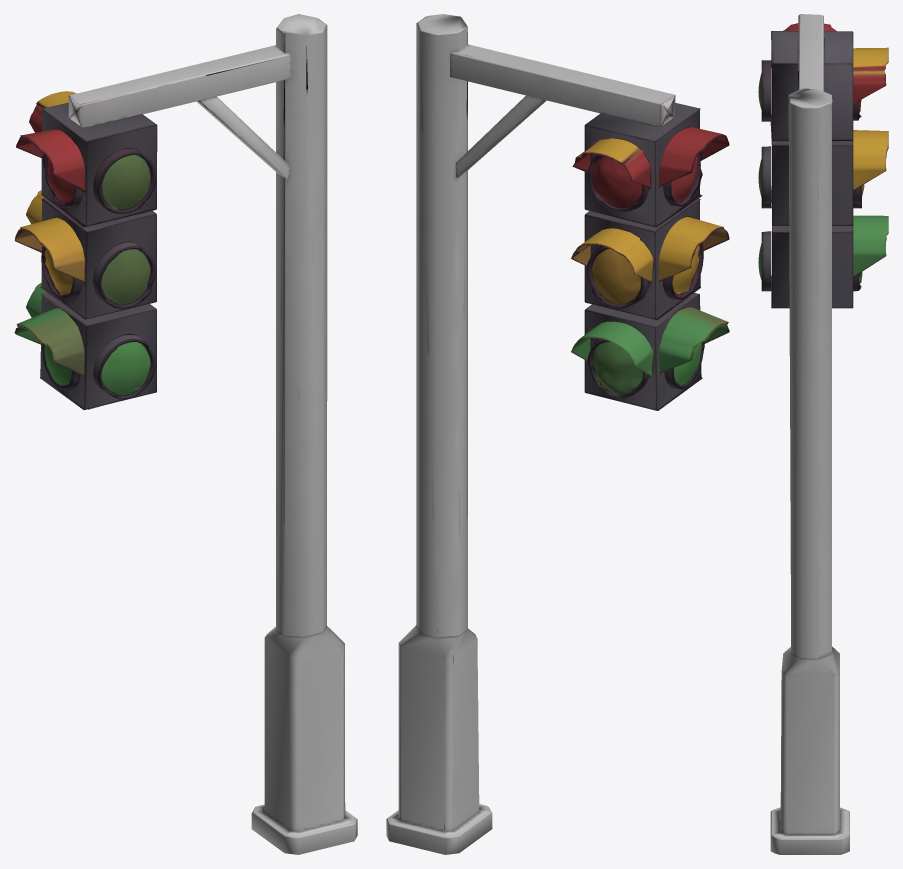
The model's file is 55-traffic-light.glb.
3 views of the same model, side by side, from view 1: azimuth 30°, elevation 25°; view 2: azimuth 150°, elevation 25°; view 3: azimuth 270°, elevation 25° (orthographic). The views are drawn at different scales.
Parts seen in each view (by area): view 1: geometry_0; view 2: geometry_0; view 3: geometry_0.
Part boxes in pixels (x1,y1,x2,y2): geometry_0: [14, 14, 357, 854]; geometry_0: [386, 14, 729, 854]; geometry_0: [758, 14, 888, 854].
Size of the model in its own units: 0.3862 by 0.9517 by 0.1514.
Materials: 1 (1 with a texture image).
